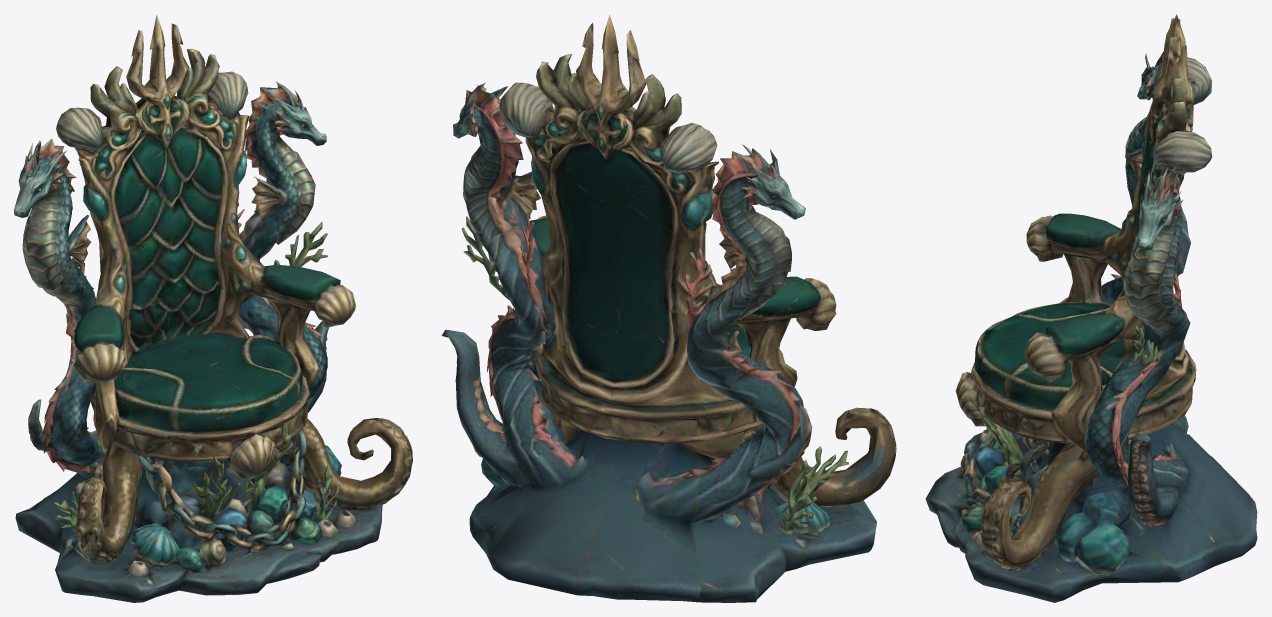
The model's file is chair.glb.
3 renders of one model, left to right at view 1: azimuth 30°, elevation 25°; view 2: azimuth 150°, elevation 25°; view 3: azimuth 270°, elevation 25°, orthographic. The views are drawn at different scales.
Bounding box in the file's own units: 1.37 × 1.9 × 1.13.
1 material, 1 textured.
